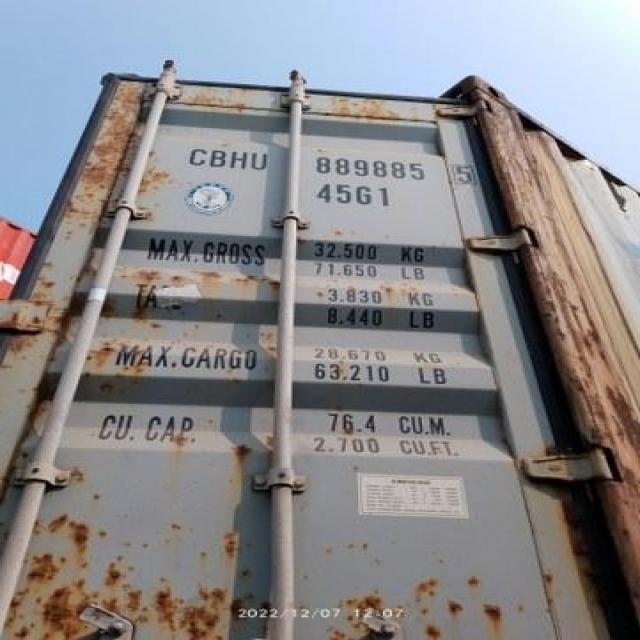ISO: (318, 183, 392, 208)
container_number: (186, 144, 476, 177)
